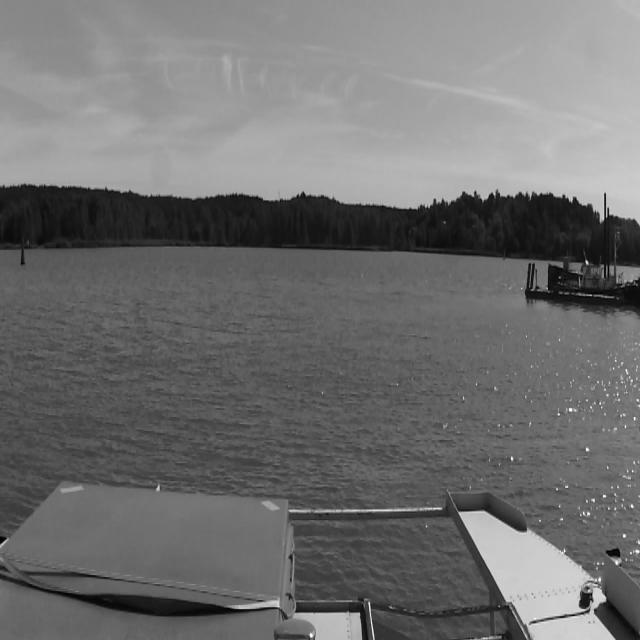buoy: (16, 224, 30, 273)
